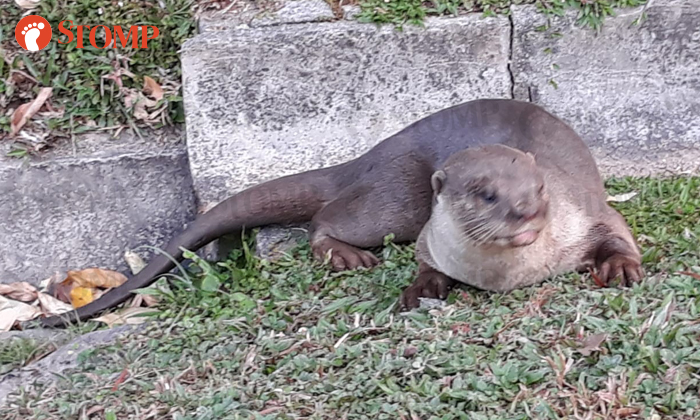otter: (30, 87, 653, 340)
